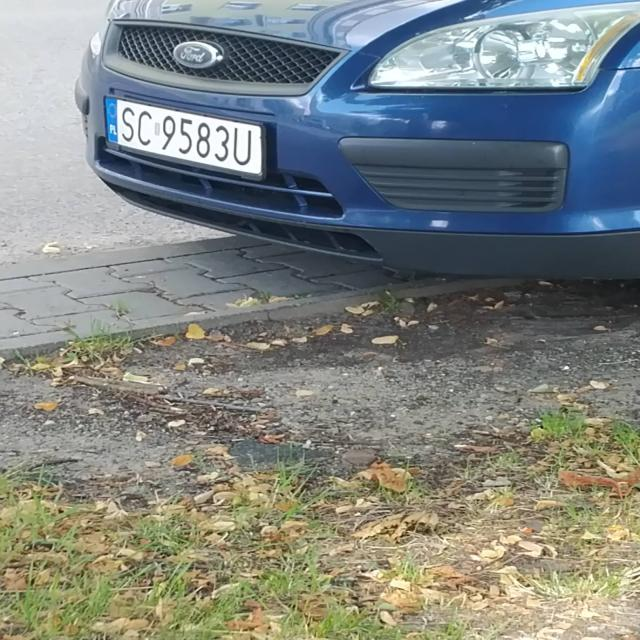pl_license_plate: (105, 95, 260, 173)
